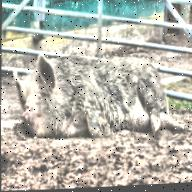boar: (12, 44, 185, 142)
